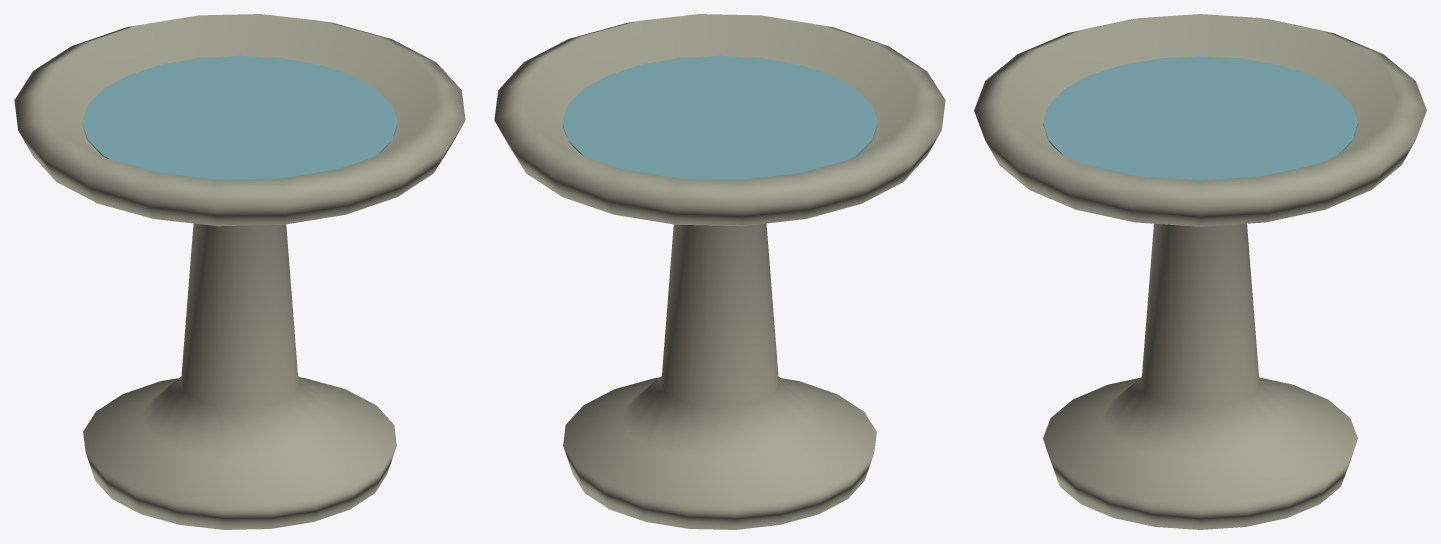
The model's file is almanac-gardens-birdbath-3ecbf411__22024.glb.
3 renders of one model, left to right at view 1: azimuth 30°, elevation 25°; view 2: azimuth 150°, elevation 25°; view 3: azimuth 270°, elevation 25°, orthographic.
Parts seen in each view (by area): view 1: birdbath-stone, birdbath-blue; view 2: birdbath-stone, birdbath-blue; view 3: birdbath-stone, birdbath-blue.
Boxes of the visible parts, bbox=[...] form: birdbath-stone: bbox=[14, 14, 465, 529]; birdbath-blue: bbox=[82, 55, 397, 179]; birdbath-stone: bbox=[494, 14, 945, 529]; birdbath-blue: bbox=[562, 55, 877, 179]; birdbath-stone: bbox=[974, 14, 1426, 529]; birdbath-blue: bbox=[1043, 56, 1357, 180].
Size of the model in its own units: 0.92 by 0.83 by 0.92.
